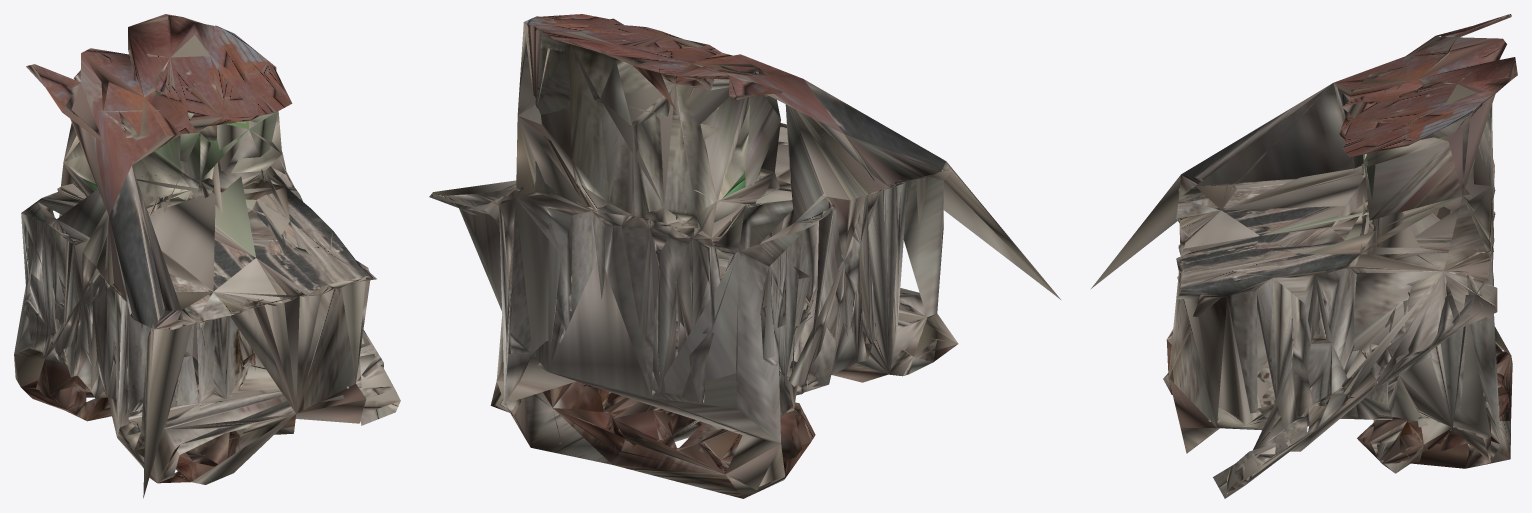
The model's file is shack_d.glb.
3 views of the same model, side by side, from view 1: azimuth 30°, elevation 25°; view 2: azimuth 150°, elevation 25°; view 3: azimuth 270°, elevation 25° (orthographic). The views are drawn at different scales.
Visible parts, largest first — view 1: mesh_node; view 2: mesh_node; view 3: mesh_node.
Boxes of the visible parts, x1,y1,x2,y2 form: mesh_node: (14, 14, 400, 498); mesh_node: (429, 14, 1060, 498); mesh_node: (1090, 14, 1517, 498).
Bounding box in the file's own units: 1.73 × 1.71 × 1.78.
Materials: 1 (1 with a texture image).
